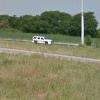Tree: (18, 6, 76, 34)
